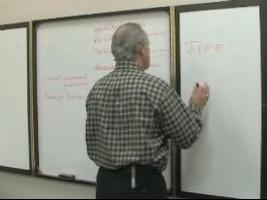person without safety: (89, 20, 175, 178)
